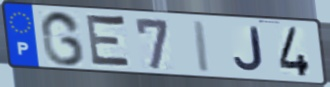4: (278, 26, 312, 78)
7: (133, 15, 172, 71)
E: (85, 11, 134, 71)
G: (39, 9, 87, 68)
I: (191, 19, 213, 75)
J: (232, 25, 266, 73)
